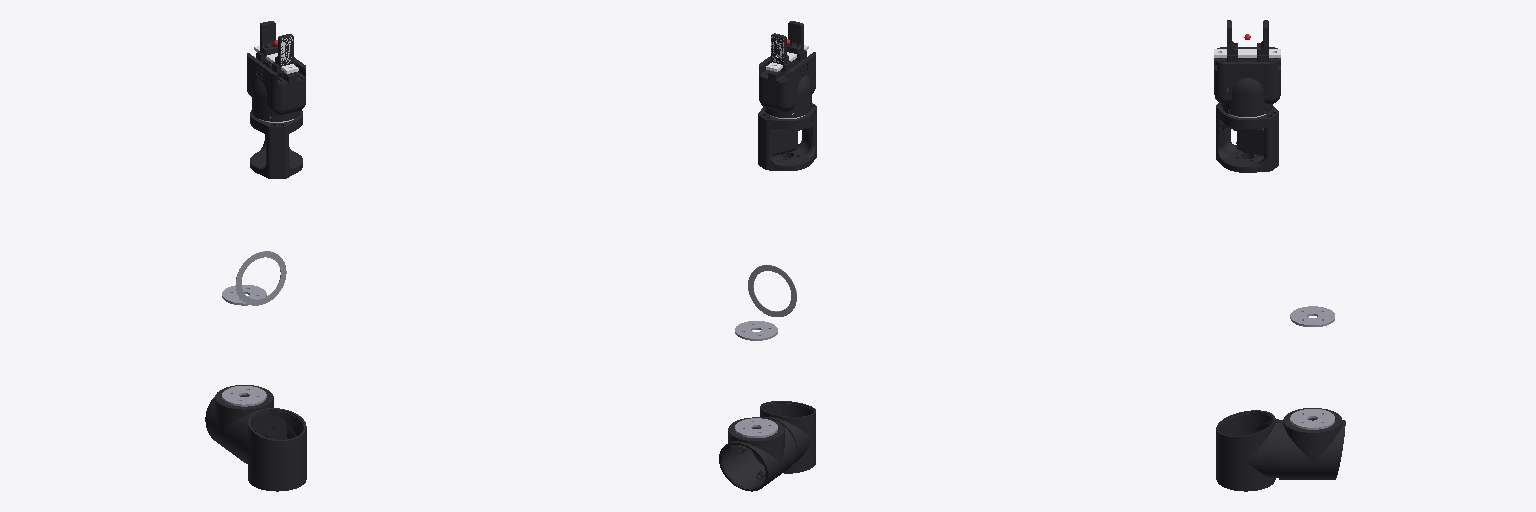
robot.urdf — eb15:
<?xml version="1.0" ?>
<!-- =================================================================================== -->
<!-- |    This document was autogenerated by xacro from /home/juza/eb15_ws/src/eb15_description/urdf/eb15.urdf.xacro | -->
<!-- |    EDITING THIS FILE BY HAND IS NOT RECOMMENDED                                 | -->
<!-- =================================================================================== -->
<robot name="eb15">
  <!-- ================================================= -->
  <!-- MATERIALS DEFINITION                              -->
  <!-- ================================================= -->
  <material name="dark_gray">
    <color rgba="0.22 0.22 0.24 1.0"/>
  </material>
  <material name="light_white">
    <color rgba="0.94 0.94 0.96 1.0"/>
  </material>
  <material name="metallic">
    <color rgba="0.65 0.65 0.70 1.0"/>
  </material>
  <material name="accent_red">
    <color rgba="0.85 0.20 0.20 1.0"/>
  </material>
  <!-- ================================================= -->
  <!-- WORLD LINK & BASE FIXTURE                         -->
  <!-- ================================================= -->
  <link name="world"/>
  <joint name="world_joint" type="fixed">
    <parent link="world"/>
    <child link="base_link"/>
    <origin rpy="0 0 0" xyz="0 0 0"/>
  </joint>
  <!-- ================================================= -->
  <!-- BASE LINK (001 Base Plate + 002 Washer)           -->
  <!-- ================================================= -->
  <link name="base_link">
    <!-- 001 Base Plate -->
    <visual>
      <origin rpy="0 0 0" xyz="-0.100 -0.100 0.0"/>
      <geometry>
        <mesh filename="package://eb15_description/meshes/001.stl" scale="0.001 0.001 0.001"/>
      </geometry>
      <material name="dark_gray"/>
    </visual>
    <!-- 002 Washer (Thickness: 0.8mm) -->
    <visual>
      <origin rpy="0 0 0" xyz="-0.100 -0.100 0.030"/>
      <geometry>
        <mesh filename="package://eb15_description/meshes/002.stl" scale="0.001 0.001 0.001"/>
      </geometry>
      <material name="metallic"/>
    </visual>
    <collision>
      <origin rpy="0 0 0" xyz="0 0 0.015"/>
      <geometry>
        <cylinder length="0.030" radius="0.0525"/>
      </geometry>
    </collision>
    <inertial>
      <origin rpy="0 0 0" xyz="0 0 0.015"/>
      <mass value="0.50"/>
      <inertia ixx="0.0008" ixy="0" ixz="0" iyy="0.0008" iyz="0" izz="0.0012"/>
    </inertial>
  </link>
  <!-- ================================================= -->
  <!-- JOINT 1 (BASE PAN / YAW)                          -->
  <!-- ================================================= -->
  <joint name="joint1" type="revolute">
    <parent link="base_link"/>
    <child link="link1"/>
    <origin rpy="0 0 0" xyz="0 0 0.0308"/>
    <axis xyz="0 0 1"/>
    <limit effort="15.0" lower="-3.14159" upper="3.14159" velocity="3.14"/>
    <dynamics damping="0.5" friction="0.1"/>
  </joint>
  <!-- ================================================= -->
  <!-- LINK 1 (SHOULDER COLUMN: 003 + 004 Cap + 005)     -->
  <!-- ================================================= -->
  <link name="link1">
    <!-- 003 Shoulder Column Housing -->
    <visual>
      <origin rpy="0 0 -1.5707963" xyz="-0.100 0.100 0.0"/>
      <geometry>
        <mesh filename="package://eb15_description/meshes/003.stl" scale="0.001 0.001 0.001"/>
      </geometry>
      <material name="dark_gray"/>
    </visual>
    <!-- 004 Top Angle Cap -->
    <visual>
      <origin rpy="3.14159265 0 -1.5707963" xyz="0.100 0.100 0.0942"/>
      <geometry>
        <mesh filename="package://eb15_description/meshes/004.stl" scale="0.001 0.001 0.001"/>
      </geometry>
      <material name="light_white"/>
    </visual>
    <!-- 005 Washer -->
    <visual>
      <origin rpy="-1.5707963 0 0" xyz="-0.100 0.040 0.143"/>
      <geometry>
        <mesh filename="package://eb15_description/meshes/005.stl" scale="0.001 0.001 0.001"/>
      </geometry>
      <material name="metallic"/>
    </visual>
    <collision>
      <origin rpy="0 0 0" xyz="0 0 0.0425"/>
      <geometry>
        <cylinder length="0.085" radius="0.040"/>
      </geometry>
    </collision>
    <inertial>
      <origin rpy="0 0 0" xyz="0 0.015 0.043"/>
      <mass value="0.75"/>
      <inertia ixx="0.001" ixy="0" ixz="0" iyy="0.001" iyz="0" izz="0.0008"/>
    </inertial>
  </link>
  <!-- ================================================= -->
  <!-- JOINT 2 (SHOULDER PITCH)                          -->
  <!-- ================================================= -->
  <joint name="joint2" type="revolute">
    <parent link="link1"/>
    <child link="link2"/>
    <origin rpy="0 0 0" xyz="0 0.0838 0.043"/>
    <axis xyz="0 1 0"/>
    <limit effort="15.0" lower="-1.570796" upper="1.570796" velocity="3.14"/>
    <dynamics damping="0.5" friction="0.1"/>
  </joint>
  <!-- ================================================= -->
  <!-- LINK 2 (UPPER ARM: 006..013)                      -->
  <!-- ================================================= -->
  <link name="link2">
    <!-- 006 Shoulder Joint Housing -->
    <visual>
      <origin rpy="1.5707963 0 3.14159265" xyz="0.100 -0.043 -0.100"/>
      <geometry>
        <mesh filename="package://eb15_description/meshes/006.stl" scale="0.001 0.001 0.001"/>
      </geometry>
      <material name="dark_gray"/>
    </visual>
    <!-- 007 Shoulder Outer Cap -->
    <visual>
      <origin rpy="1.5707963 0 0" xyz="-0.100 0.042 -0.100"/>
      <geometry>
        <mesh filename="package://eb15_description/meshes/007.stl" scale="0.001 0.001 0.001"/>
      </geometry>
      <material name="light_white"/>
    </visual>
    <!-- 008 Washer -->
    <visual>
      <origin rpy="0 0 0" xyz="-0.100 -0.100 0.040"/>
      <geometry>
        <mesh filename="package://eb15_description/meshes/008.stl" scale="0.001 0.001 0.001"/>
      </geometry>
      <material name="metallic"/>
    </visual>
    <!-- 009 Upper Arm White Tube -->
    <visual>
      <origin rpy="0 0 0" xyz="-0.100 -0.100 0.043"/>
      <geometry>
        <mesh filename="package://eb15_description/meshes/009.stl" scale="0.001 0.001 0.001"/>
      </geometry>
      <material name="light_white"/>
    </visual>
    <!-- 010 Washer -->
    <visual>
      <origin rpy="0 0 0" xyz="-0.100 -0.100 0.185"/>
      <geometry>
        <mesh filename="package://eb15_description/meshes/010.stl" scale="0.001 0.001 0.001"/>
      </geometry>
      <material name="metallic"/>
    </visual>
    <!-- 011 Elbow Joint Housing -->
    <visual>
      <origin rpy="1.5707963 0 3.14159265" xyz="0.100 -0.043 0.128"/>
      <geometry>
        <mesh filename="package://eb15_description/meshes/011.stl" scale="0.001 0.001 0.001"/>
      </geometry>
      <material name="dark_gray"/>
    </visual>
    <!-- 012 Elbow Outer Cap -->
    <visual>
      <origin rpy="1.5707963 0 0" xyz="-0.100 0.042 0.128"/>
      <geometry>
        <mesh filename="package://eb15_description/meshes/012.stl" scale="0.001 0.001 0.001"/>
      </geometry>
      <material name="light_white"/>
    </visual>
    <!-- 013 Washer -->
    <visual>
      <origin rpy="1.5707963 0 0" xyz="-0.100 -0.043 0.128"/>
      <geometry>
        <mesh filename="package://eb15_description/meshes/013.stl" scale="0.001 0.001 0.001"/>
      </geometry>
      <material name="metallic"/>
    </visual>
    <!-- Collision geometry -->
    <collision>
      <origin rpy="0 0 0" xyz="0 0 0.114"/>
      <geometry>
        <cylinder length="0.148" radius="0.038"/>
      </geometry>
    </collision>
    <collision>
      <origin rpy="1.5707963 0 0" xyz="0 0 0"/>
      <geometry>
        <cylinder length="0.085" radius="0.038"/>
      </geometry>
    </collision>
    <collision>
      <origin rpy="1.5707963 0 0" xyz="0 0 0.228"/>
      <geometry>
        <cylinder length="0.085" radius="0.038"/>
      </geometry>
    </collision>
    <inertial>
      <origin rpy="0 0 0" xyz="0 0 0.114"/>
      <mass value="1.20"/>
      <inertia ixx="0.006" ixy="0" ixz="0" iyy="0.006" iyz="0" izz="0.001"/>
    </inertial>
  </link>
  <!-- ================================================= -->
  <!-- JOINT 3 (ELBOW PITCH)                             -->
  <!-- ================================================= -->
  <joint name="joint3" type="revolute">
    <parent link="link2"/>
    <child link="link3"/>
    <origin rpy="0 0 0" xyz="0 -0.0838 0.228"/>
    <axis xyz="0 1 0"/>
    <limit effort="12.0" lower="-2.7" upper="2.7" velocity="3.14"/>
    <dynamics damping="0.4" friction="0.1"/>
  </joint>
  <!-- ================================================= -->
  <!-- LINK 3 (FOREARM: 014 + 015)                       -->
  <!-- ================================================= -->
  <link name="link3">
    <!-- 014 Elbow Bracket -->
    <visual>
      <origin rpy="1.5707963 0 0" xyz="-0.100 0.040 -0.095"/>
      <geometry>
        <mesh filename="package://eb15_description/meshes/014.stl" scale="0.001 0.001 0.001"/>
      </geometry>
      <material name="dark_gray"/>
    </visual>
    <!-- 015 Forearm White Tube -->
    <visual>
      <origin rpy="0 0 0" xyz="-0.100 -0.100 0.048"/>
      <geometry>
        <mesh filename="package://eb15_description/meshes/015.stl" scale="0.001 0.001 0.001"/>
      </geometry>
      <material name="light_white"/>
    </visual>
    <!-- Collision geometry -->
    <collision>
      <origin rpy="0 0 0" xyz="0 0 0.113"/>
      <geometry>
        <cylinder length="0.130" radius="0.033"/>
      </geometry>
    </collision>
    <collision>
      <origin rpy="1.5707963 0 0" xyz="0 0.020 0.024"/>
      <geometry>
        <cylinder length="0.073" radius="0.038"/>
      </geometry>
    </collision>
    <inertial>
      <origin rpy="0 0 0" xyz="0 0 0.090"/>
      <mass value="0.80"/>
      <inertia ixx="0.003" ixy="0" ixz="0" iyy="0.003" iyz="0" izz="0.0006"/>
    </inertial>
  </link>
  <!-- ================================================= -->
  <!-- WRIST BASE (FIXED ADAPTER TO FOREARM TUBE 015)    -->
  <!-- ================================================= -->
  <joint name="wrist_base_joint" type="fixed">
    <parent link="link3"/>
    <child link="wrist_base_link"/>
    <!-- Rotated -90 deg (-pi/2 rad) clockwise so servo axis aligns with elbow axis -->
    <origin rpy="0 0 -1.5707963" xyz="0 0 0.178"/>
  </joint>
  <link name="wrist_base_link">
    <visual>
      <origin rpy="0 0 0" xyz="0 0 0"/>
      <geometry>
        <mesh filename="package://eb15_description/meshes/wrist_base.stl" scale="0.001 0.001 0.001"/>
      </geometry>
      <material name="dark_gray"/>
    </visual>
    <collision>
      <origin rpy="0 0 0" xyz="0 0 0.037"/>
      <geometry>
        <box size="0.082 0.069 0.075"/>
      </geometry>
    </collision>
    <inertial>
      <origin rpy="0 0 0" xyz="0 0 0.037"/>
      <mass value="0.22"/>
      <inertia ixx="0.0002" ixy="0" ixz="0" iyy="0.0002" iyz="0" izz="0.0002"/>
    </inertial>
  </link>
  <!-- ================================================= -->
  <!-- WRIST JOINT (REVOLUTE WRIST ROLL - SERVO HORN)    -->
  <!-- ================================================= -->
  <joint name="wrist_joint" type="revolute">
    <parent link="wrist_base_link"/>
    <child link="wrist_link"/>
    <origin rpy="0 0 0" xyz="0 0 0"/>
    <axis xyz="0 0 1"/>
    <limit effort="5.0" lower="-1.570796" upper="1.570796" velocity="3.14"/>
    <dynamics damping="0.1" friction="0.05"/>
  </joint>
  <link name="wrist_link">
    <visual>
      <origin rpy="0 0 0" xyz="0 0 0"/>
      <geometry>
        <mesh filename="package://eb15_description/meshes/wrist_rot.stl" scale="0.001 0.001 0.001"/>
      </geometry>
      <material name="light_white"/>
    </visual>
    <collision>
      <origin rpy="0 0 0" xyz="0 0 0.073"/>
      <geometry>
        <cylinder length="0.029" radius="0.028"/>
      </geometry>
    </collision>
    <inertial>
      <origin rpy="0 0 0" xyz="0 0 0.073"/>
      <mass value="0.08"/>
      <inertia ixx="0.00005" ixy="0" ixz="0" iyy="0.00005" iyz="0" izz="0.00005"/>
    </inertial>
  </link>
  <!-- ================================================= -->
  <!-- TOOL0 (END EFFECTOR FLANGE AT TOP OF SERVO HORN)  -->
  <!-- ================================================= -->
  <joint name="tool_joint" type="fixed">
    <parent link="wrist_link"/>
    <child link="tool0"/>
    <origin rpy="0 0 0" xyz="0 0 0.0877"/>
  </joint>
  <link name="tool0"/>
  <!-- ================================================= -->
  <!-- EBG-20 ADAPTIVE ROBOT GRIPPER                     -->
  <!-- ================================================= -->
  <!-- Fixed base attached to tool0: wrist piece inserts 9.5mm into collar of 002 -->
  <joint name="gripper_base_joint" type="fixed">
    <parent link="tool0"/>
    <child link="gripper_base_link"/>
    <origin rpy="0 0 0" xyz="0 0 -0.0095"/>
  </joint>
  <link name="gripper_base_link">
    <!-- Main Housing (002 + 003 + 015 Pinion) -->
    <visual>
      <origin rpy="0 0 0" xyz="0 0 0"/>
      <geometry>
        <mesh filename="package://eb15_description/meshes/gripper_base.stl" scale="0.001 0.001 0.001"/>
      </geometry>
      <material name="dark_gray"/>
    </visual>
    <!-- Front Cover Plate (004) -->
    <visual>
      <origin rpy="0 0 0" xyz="0 0 0"/>
      <geometry>
        <mesh filename="package://eb15_description/meshes/gripper_cover.stl" scale="0.001 0.001 0.001"/>
      </geometry>
      <material name="light_white"/>
    </visual>
    <collision>
      <origin rpy="0 0 0" xyz="0 0 0.0385"/>
      <geometry>
        <box size="0.085 0.065 0.077"/>
      </geometry>
    </collision>
    <inertial>
      <origin rpy="0 0 0" xyz="0 0 0.0385"/>
      <mass value="0.22"/>
      <inertia ixx="0.00015" ixy="0" ixz="0" iyy="0.00018" iyz="0" izz="0.00012"/>
    </inertial>
  </link>
  <!-- ================================================= -->
  <!-- GRIPPER LEFT FINGER (010 + 011 + 007 + 008 + 009) -->
  <!-- Prismatic joint sliding along X (inward to close) -->
  <!-- ================================================= -->
  <joint name="gripper_left_joint" type="prismatic">
    <parent link="gripper_base_link"/>
    <child link="gripper_left_finger_link"/>
    <origin rpy="0 0 0" xyz="0 0 0"/>
    <axis xyz="1 0 0"/>
    <limit effort="20.0" lower="-0.018" upper="0.015" velocity="0.05"/>
    <dynamics damping="0.5" friction="0.1"/>
  </joint>
  <link name="gripper_left_finger_link">
    <!-- Finger Body & Rack (010 + 011 + 007 + 008) -->
    <visual>
      <origin rpy="0 0 0" xyz="0 0 0"/>
      <geometry>
        <mesh filename="package://eb15_description/meshes/gripper_left_finger.stl" scale="0.001 0.001 0.001"/>
      </geometry>
      <material name="dark_gray"/>
    </visual>
    <!-- White Grip Pad (009) -->
    <visual>
      <origin rpy="0 0 0" xyz="0 0 0"/>
      <geometry>
        <mesh filename="package://eb15_description/meshes/gripper_left_pad.stl" scale="0.001 0.001 0.001"/>
      </geometry>
      <material name="light_white"/>
    </visual>
    <collision>
      <origin rpy="0 0 0" xyz="-0.020 0 0.098"/>
      <geometry>
        <box size="0.015 0.021 0.040"/>
      </geometry>
    </collision>
    <inertial>
      <origin rpy="0 0 0" xyz="-0.015 0 0.088"/>
      <mass value="0.04"/>
      <inertia ixx="0.00001" ixy="0" ixz="0" iyy="0.00001" iyz="0" izz="0.00001"/>
    </inertial>
  </link>
  <!-- ================================================== -->
  <!-- GRIPPER RIGHT FINGER (005 + 006 + 012 + 013 + 014) -->
  <!-- Prismatic joint sliding along -X (mimics left)     -->
  <!-- ================================================== -->
  <joint name="gripper_right_joint" type="prismatic">
    <parent link="gripper_base_link"/>
    <child link="gripper_right_finger_link"/>
    <origin rpy="0 0 0" xyz="0 0 0"/>
    <axis xyz="-1 0 0"/>
    <limit effort="20.0" lower="-0.018" upper="0.015" velocity="0.05"/>
    <mimic joint="gripper_left_joint" multiplier="1.0" offset="0.0"/>
    <dynamics damping="0.5" friction="0.1"/>
  </joint>
  <link name="gripper_right_finger_link">
    <!-- Finger Body & Rack (005 + 006 + 012 + 013) -->
    <visual>
      <origin rpy="0 0 0" xyz="0 0 0"/>
      <geometry>
        <mesh filename="package://eb15_description/meshes/gripper_right_finger.stl" scale="0.001 0.001 0.001"/>
      </geometry>
      <material name="dark_gray"/>
    </visual>
    <!-- White Grip Pad (014) -->
    <visual>
      <origin rpy="0 0 0" xyz="0 0 0"/>
      <geometry>
        <mesh filename="package://eb15_description/meshes/gripper_right_pad.stl" scale="0.001 0.001 0.001"/>
      </geometry>
      <material name="light_white"/>
    </visual>
    <collision>
      <origin rpy="0 0 0" xyz="0.020 0 0.098"/>
      <geometry>
        <box size="0.015 0.021 0.040"/>
      </geometry>
    </collision>
    <inertial>
      <origin rpy="0 0 0" xyz="0.015 0 0.088"/>
      <mass value="0.04"/>
      <inertia ixx="0.00001" ixy="0" ixz="0" iyy="0.00001" iyz="0" izz="0.00001"/>
    </inertial>
  </link>
  <!-- ================================================= -->
  <!-- GRIPPER TCP (TOOL CENTER POINT / GRASP FRAME)     -->
  <!-- ================================================= -->
  <joint name="gripper_tcp_joint" type="fixed">
    <parent link="gripper_base_link"/>
    <child link="gripper_tcp"/>
    <origin rpy="0 0 0" xyz="0 0 0.098"/>
  </joint>
  <link name="gripper_tcp">
    <visual>
      <origin rpy="0 0 0" xyz="0 0 0"/>
      <geometry>
        <sphere radius="0.004"/>
      </geometry>
      <material name="accent_red"/>
    </visual>
  </link>
</robot>

--- Render facts (derived) ---
The picture shows the robot from 3 angles, left to right: view 1: azimuth 30°, elevation 25°; view 2: azimuth 150°, elevation 25°; view 3: azimuth 270°, elevation 25°; orthographic projection.
Robot: eb15 — 12 links, 11 joints (4 revolute, 2 prismatic, 5 fixed); root link world; default pose: every joint at zero.
Visible links, largest first — view 1: link1, link2, gripper_base_link, wrist_base_link, gripper_left_finger_link, gripper_right_finger_link; view 2: link2, wrist_base_link, gripper_base_link, link1, gripper_left_finger_link, gripper_right_finger_link; view 3: link2, link1, gripper_base_link, wrist_base_link.
Boxes of the visible links, left/top/right/bottom form: link1: left=236, top=408, right=306, bottom=491; link2: left=205, top=251, right=286, bottom=463; gripper_base_link: left=247, top=46, right=305, bottom=121; wrist_base_link: left=250, top=110, right=302, bottom=178; gripper_left_finger_link: left=257, top=21, right=282, bottom=77; gripper_right_finger_link: left=262, top=34, right=295, bottom=73; link2: left=719, top=265, right=796, bottom=491; wrist_base_link: left=758, top=103, right=816, bottom=170; gripper_base_link: left=759, top=45, right=815, bottom=117; link1: left=752, top=401, right=815, bottom=473; gripper_left_finger_link: left=768, top=33, right=800, bottom=74; gripper_right_finger_link: left=781, top=21, right=806, bottom=75; link2: left=1279, top=306, right=1345, bottom=479; link1: left=1216, top=410, right=1278, bottom=491; gripper_base_link: left=1214, top=47, right=1280, bottom=116; wrist_base_link: left=1216, top=103, right=1278, bottom=172.
Bounding box of the posed robot: 0.076 × 0.1683 × 0.6452 m (x, y, z).
Meshes: 23 distinct files referenced, 13 mesh visuals loaded (8 binary STL, 5 ASCII STL); not drawn: 5 (reference not matched to a file when rendering), 5 (file found but could not be loaded).
